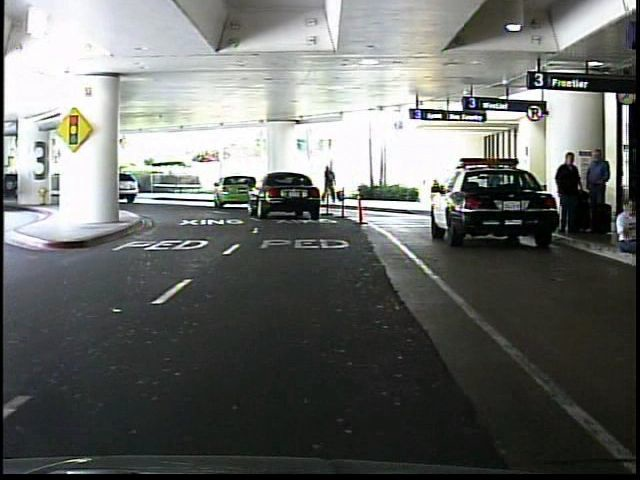person: (581, 145, 613, 240), (554, 151, 584, 247), (323, 162, 340, 206)
